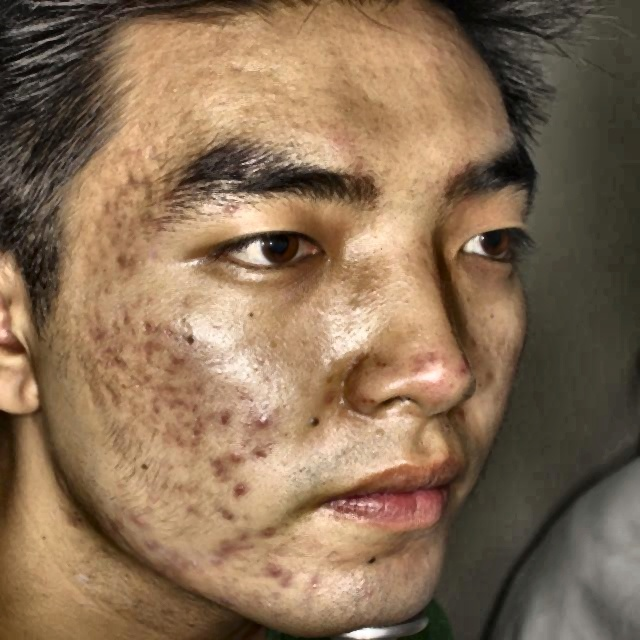papule: (90, 374, 128, 408), (142, 210, 172, 247), (442, 360, 474, 393), (97, 342, 128, 376), (248, 438, 282, 468), (132, 336, 168, 364), (80, 317, 110, 350), (214, 496, 244, 525), (198, 455, 234, 479), (185, 416, 210, 450), (142, 387, 164, 425), (133, 539, 166, 564), (161, 350, 191, 377), (242, 407, 274, 432), (112, 238, 130, 281), (115, 167, 144, 193), (210, 407, 235, 437), (253, 522, 284, 543), (111, 312, 136, 338), (90, 197, 119, 219), (124, 505, 154, 526), (222, 478, 258, 495), (412, 348, 432, 378), (162, 386, 185, 411), (212, 544, 234, 568), (175, 556, 198, 577), (224, 532, 256, 547), (266, 553, 286, 576), (221, 448, 245, 465), (286, 576, 294, 590)
